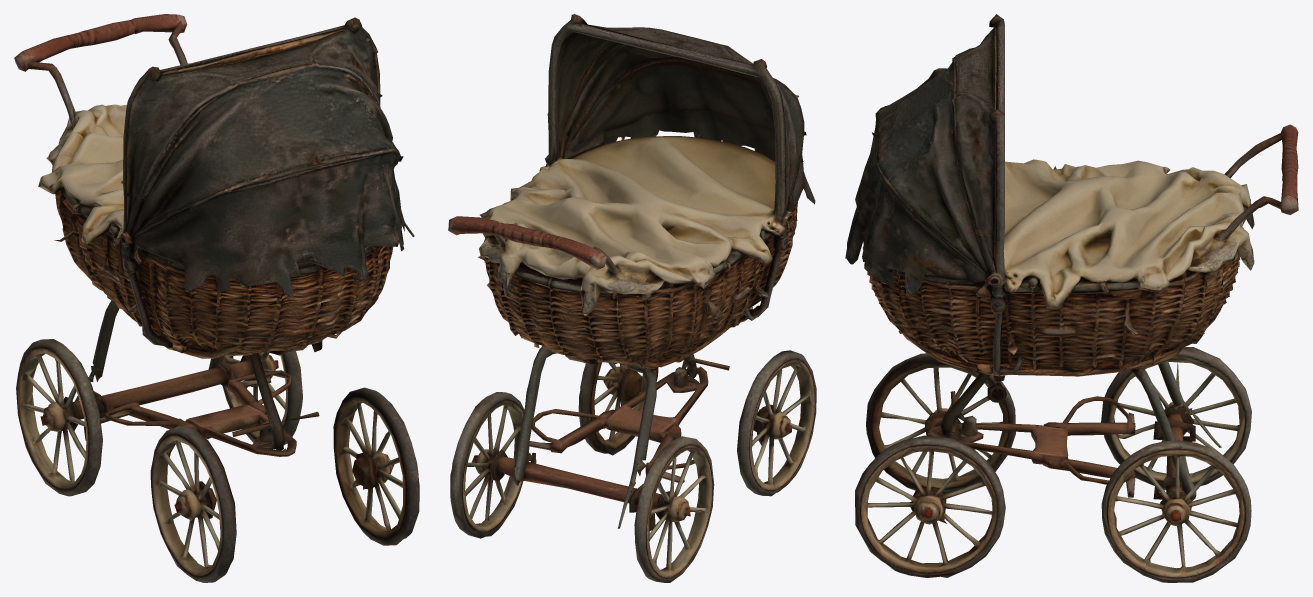
File: scene-pram-v03.glb
3 views of the same model, side by side, from view 1: azimuth 30°, elevation 25°; view 2: azimuth 150°, elevation 25°; view 3: azimuth 270°, elevation 25° (orthographic). The views are drawn at different scales.
Parts seen in each view (by area): view 1: tripo_node_c5d19451-41a9-4b23-b186-a4c00d1f60ef; view 2: tripo_node_c5d19451-41a9-4b23-b186-a4c00d1f60ef; view 3: tripo_node_c5d19451-41a9-4b23-b186-a4c00d1f60ef.
Boxes of the visible parts, x1,y1,x2,y2 form: tripo_node_c5d19451-41a9-4b23-b186-a4c00d1f60ef: [14, 14, 419, 582]; tripo_node_c5d19451-41a9-4b23-b186-a4c00d1f60ef: [448, 14, 816, 582]; tripo_node_c5d19451-41a9-4b23-b186-a4c00d1f60ef: [845, 14, 1298, 582].
Size of the model in its own units: 0.5931 by 1 by 0.8644.
Materials: 1 (1 with a texture image).
